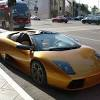Lamborghini: (1, 28, 100, 91)
